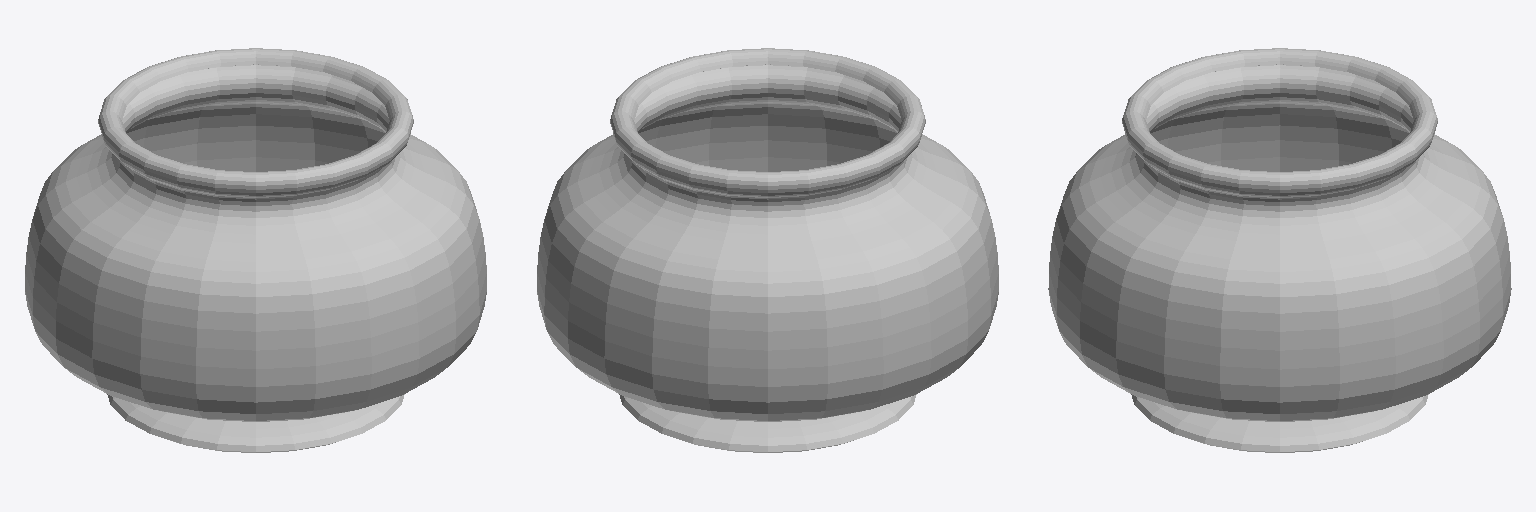
Rendered from FishAndBowl 2nd Attempt.obj.
The picture shows the model from 3 angles: view 1: azimuth 30°, elevation 25°; view 2: azimuth 150°, elevation 25°; view 3: azimuth 270°, elevation 25°; orthographic projection.
Parts seen in each view (by area): view 1: Fish_Bowl; view 2: Fish_Bowl; view 3: Fish_Bowl.
Part boxes in pixels (left/top/right/bottom): Fish_Bowl: left=25, top=48, right=486, bottom=452; Fish_Bowl: left=537, top=48, right=998, bottom=452; Fish_Bowl: left=1048, top=48, right=1511, bottom=452.
Size of the model in its own units: 18.01 by 12.43 by 18.01.